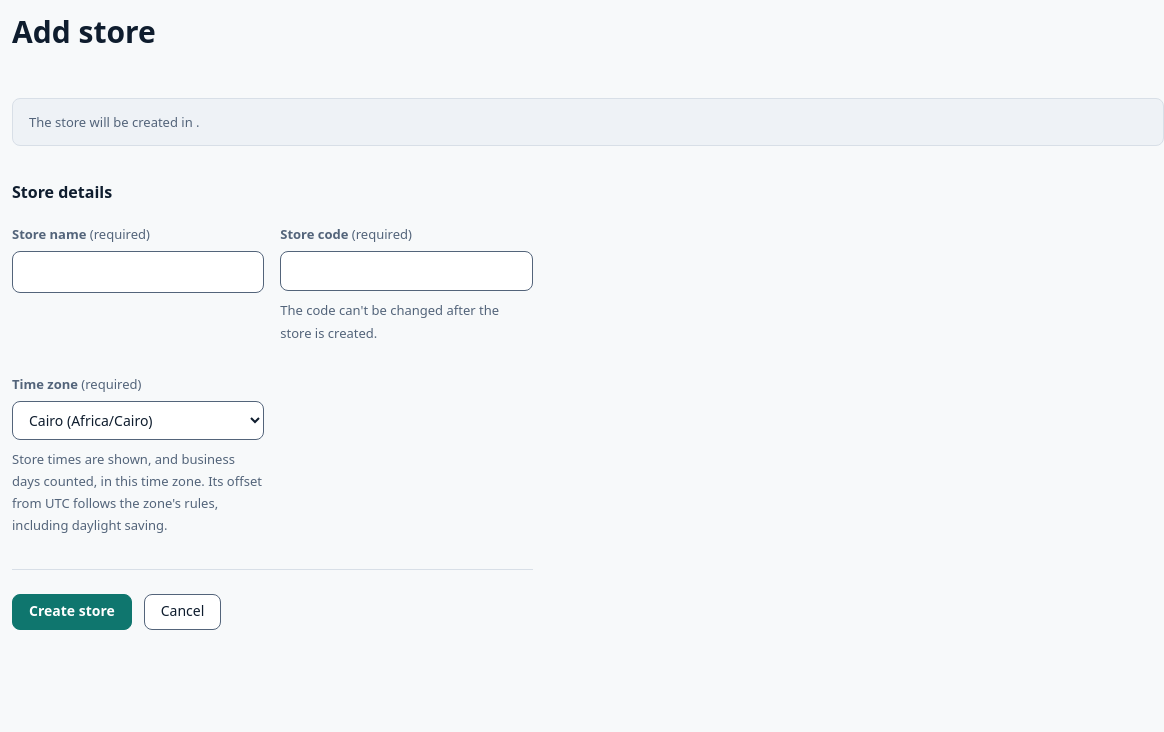
it: StoreForm create: time zone › an empty value is refused inline and nothing is sent
The width and height of the screenshot is (1164, 732).
Step 1. Select "" in the dropdown → (138, 421), box left=12, top=401, right=264, bottom=440
Step 2. Click the button "Create store" → click(72, 612), box left=12, top=594, right=132, bottom=630
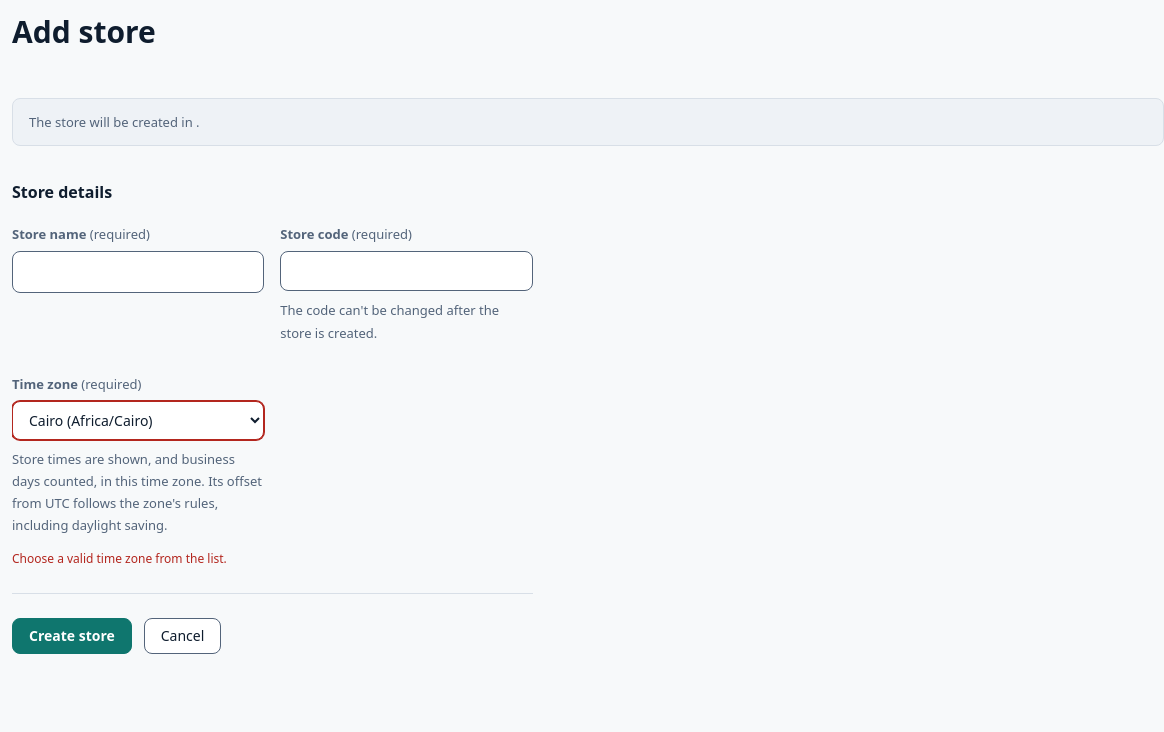
Expected: the text "Choose a valid time zone from the list." is shown, left=12, top=548, right=264, bottom=569
